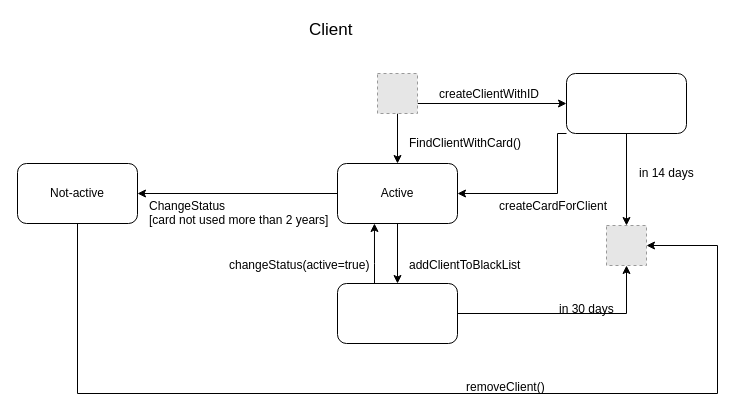
Image size: 743x419. Some labels were removed from this diagram. Grey dashed boxes stand in for pictures. Each missing label, with the box of its shape:
Blocked: (336, 282, 458, 344)
Unknown: (566, 72, 686, 134)
